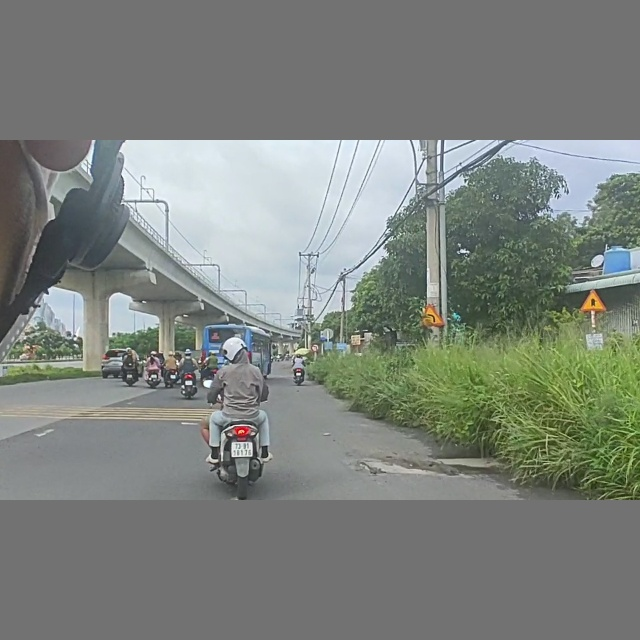I.434a: (319, 329, 329, 341)
P.123a: (310, 344, 321, 352)
W.201a: (419, 303, 445, 327)
W.207: (580, 289, 608, 311)
